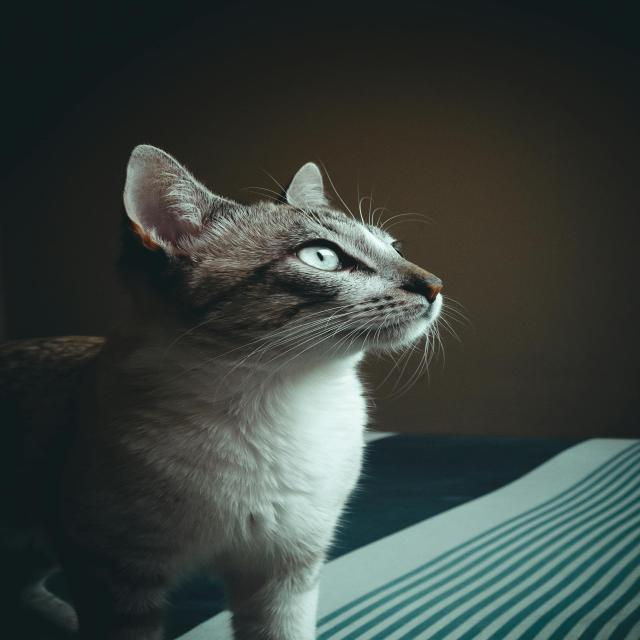Cat: (21, 143, 472, 639)
